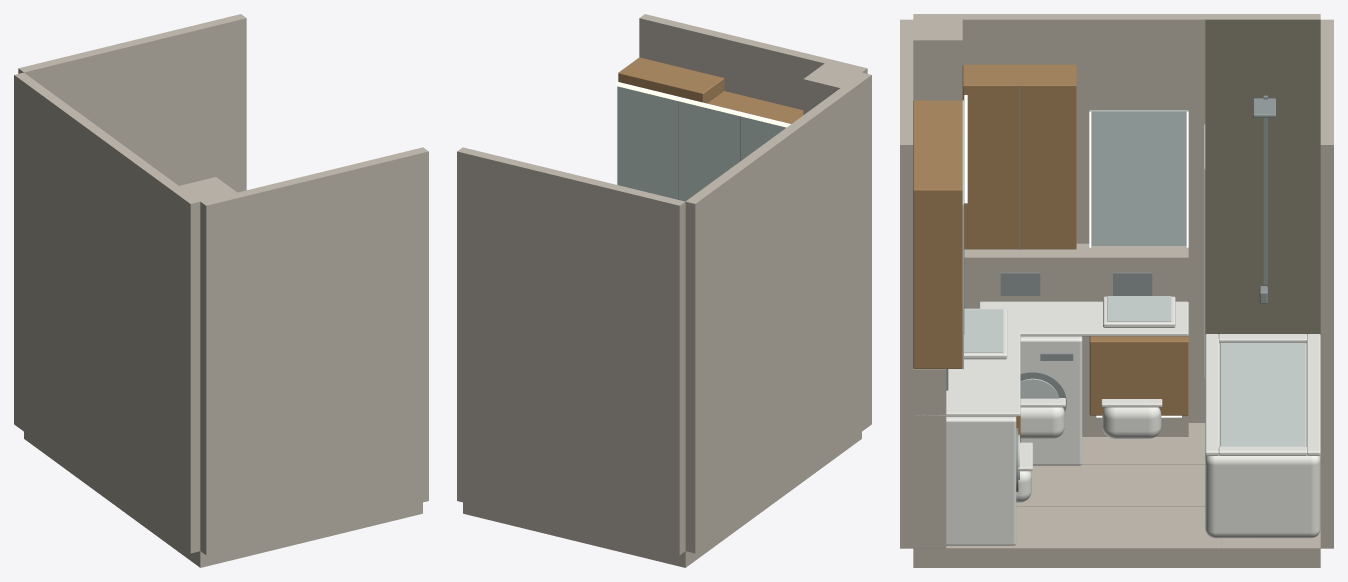
Rendered from layout-studies.glb.
3 views of the same model, side by side, from view 1: azimuth 30°, elevation 25°; view 2: azimuth 150°, elevation 25°; view 3: azimuth 270°, elevation 25° (orthographic). The views are drawn at different scales.
Visible parts, largest first — view 1: A-wall-south-3, A-wall-west-1, A-wall-north-2, A-floor-0, A-service-shaft-14; view 2: A-wall-north-2, A-wall-west-1, B-wide-mirror-73, A-wall-south-3, A-floor-0, A-upper-cabinet-31, C-upper-cabinet-115, A-service-shaft-14, B-upper-cabinet-72, B-mirror-light-76; view 3: C-accent-return-88, A-floor-0, A-wall-west-1, A-upper-cabinet-29, A-mirror-32, A-upper-cabinet-31, A-tub-body-4, A-tub-basin-5, B-upper-cabinet-72, A-wall-north-2, A-wall-south-3, C-vanity-105 (+26 smaller).
Part boxes in pixels (bbox=[...]): A-wall-south-3: bbox=[200, 147, 428, 555]; A-wall-west-1: bbox=[14, 72, 200, 553]; A-wall-north-2: bbox=[18, 14, 246, 192]; A-floor-0: bbox=[24, 432, 422, 567]; A-service-shaft-14: bbox=[179, 177, 236, 201]; A-wall-north-2: bbox=[457, 147, 685, 555]; A-wall-west-1: bbox=[685, 72, 871, 553]; B-wide-mirror-73: bbox=[617, 86, 785, 201]; A-wall-south-3: bbox=[639, 14, 867, 109]; A-floor-0: bbox=[463, 432, 861, 567]; A-upper-cabinet-31: bbox=[618, 57, 717, 100]; C-upper-cabinet-115: bbox=[619, 57, 724, 103]; A-service-shaft-14: bbox=[803, 63, 861, 114]; B-upper-cabinet-72: bbox=[707, 91, 803, 123]; B-mirror-light-76: bbox=[615, 81, 790, 127]; C-accent-return-88: bbox=[1205, 19, 1320, 334]; A-floor-0: bbox=[913, 423, 1320, 567]; A-wall-west-1: bbox=[913, 14, 1320, 422]; A-upper-cabinet-29: bbox=[962, 64, 1076, 249]; A-mirror-32: bbox=[1089, 110, 1188, 245]; A-upper-cabinet-31: bbox=[913, 145, 962, 353]; A-tub-body-4: bbox=[1205, 343, 1320, 538]; A-tub-basin-5: bbox=[1220, 343, 1305, 446]; B-upper-cabinet-72: bbox=[913, 100, 962, 368]; A-wall-north-2: bbox=[1320, 19, 1333, 548]; A-wall-south-3: bbox=[900, 19, 913, 548]; C-vanity-105: bbox=[1089, 336, 1188, 415].
Size of the model in its own units: 1.88 by 2.83 by 2.63.
